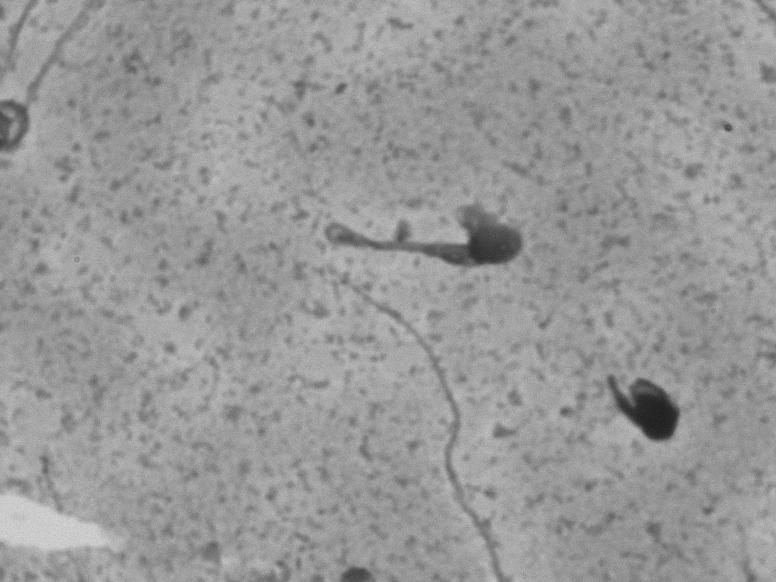Abnormal: (306, 161, 539, 293)
